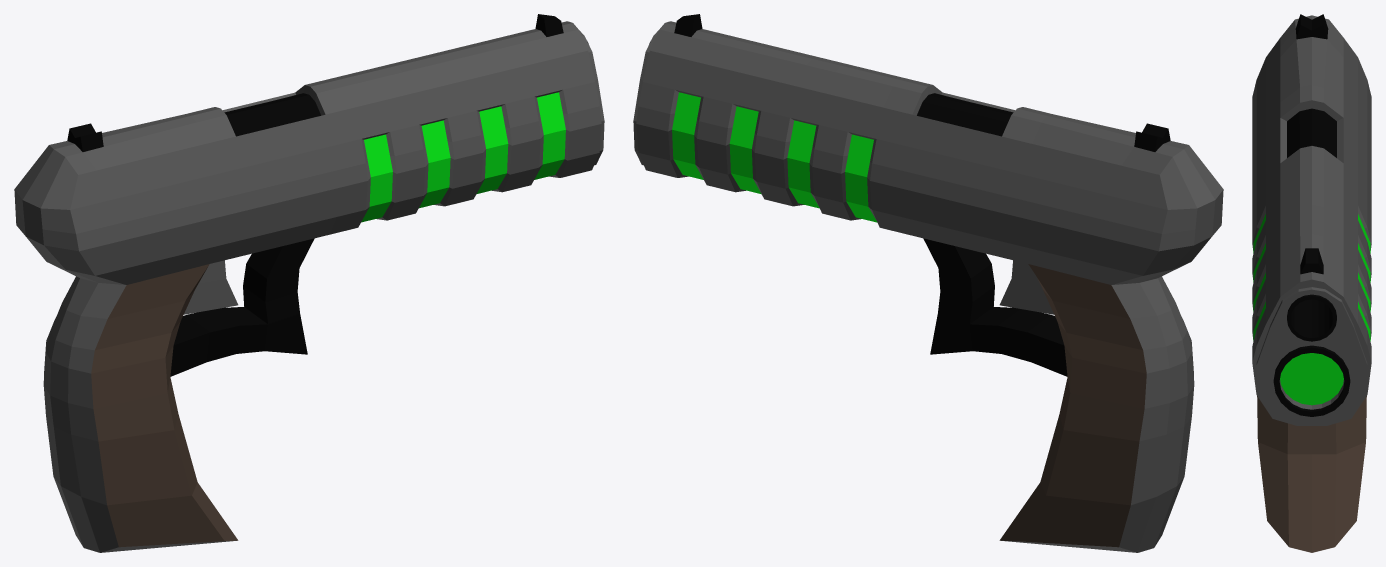
File: gun.fbx
3 views of the same model, side by side, from view 1: azimuth 30°, elevation 25°; view 2: azimuth 150°, elevation 25°; view 3: azimuth 270°, elevation 25° (orthographic). The views are drawn at different scales.
Visible parts, largest first — view 1: polySurface1; view 2: polySurface1; view 3: polySurface1.
Boxes of the visible parts, left/top/right/bottom form: polySurface1: left=14, top=14, right=604, bottom=552; polySurface1: left=633, top=14, right=1223, bottom=552; polySurface1: left=1252, top=14, right=1371, bottom=552.
Bounding box in the file's own units: 23.25 × 4.12 × 17.6.
